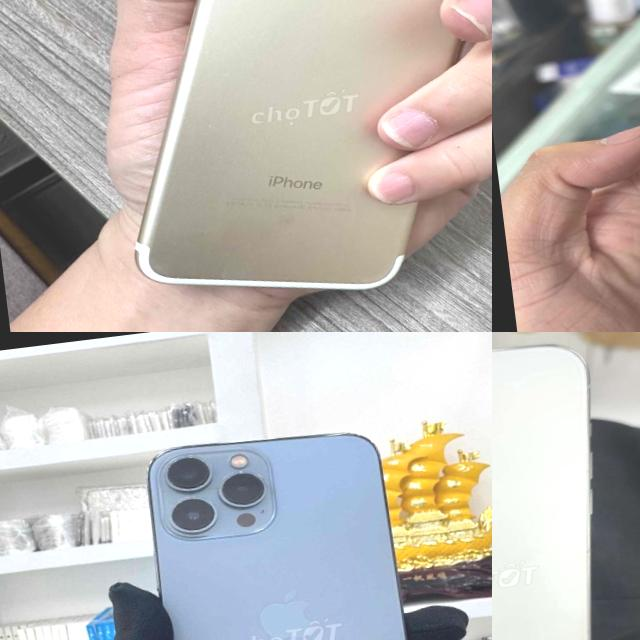gen_12_13: (124, 409, 447, 640)
gen_15: (492, 332, 640, 640)
gen_7_8: (59, 0, 492, 331)
